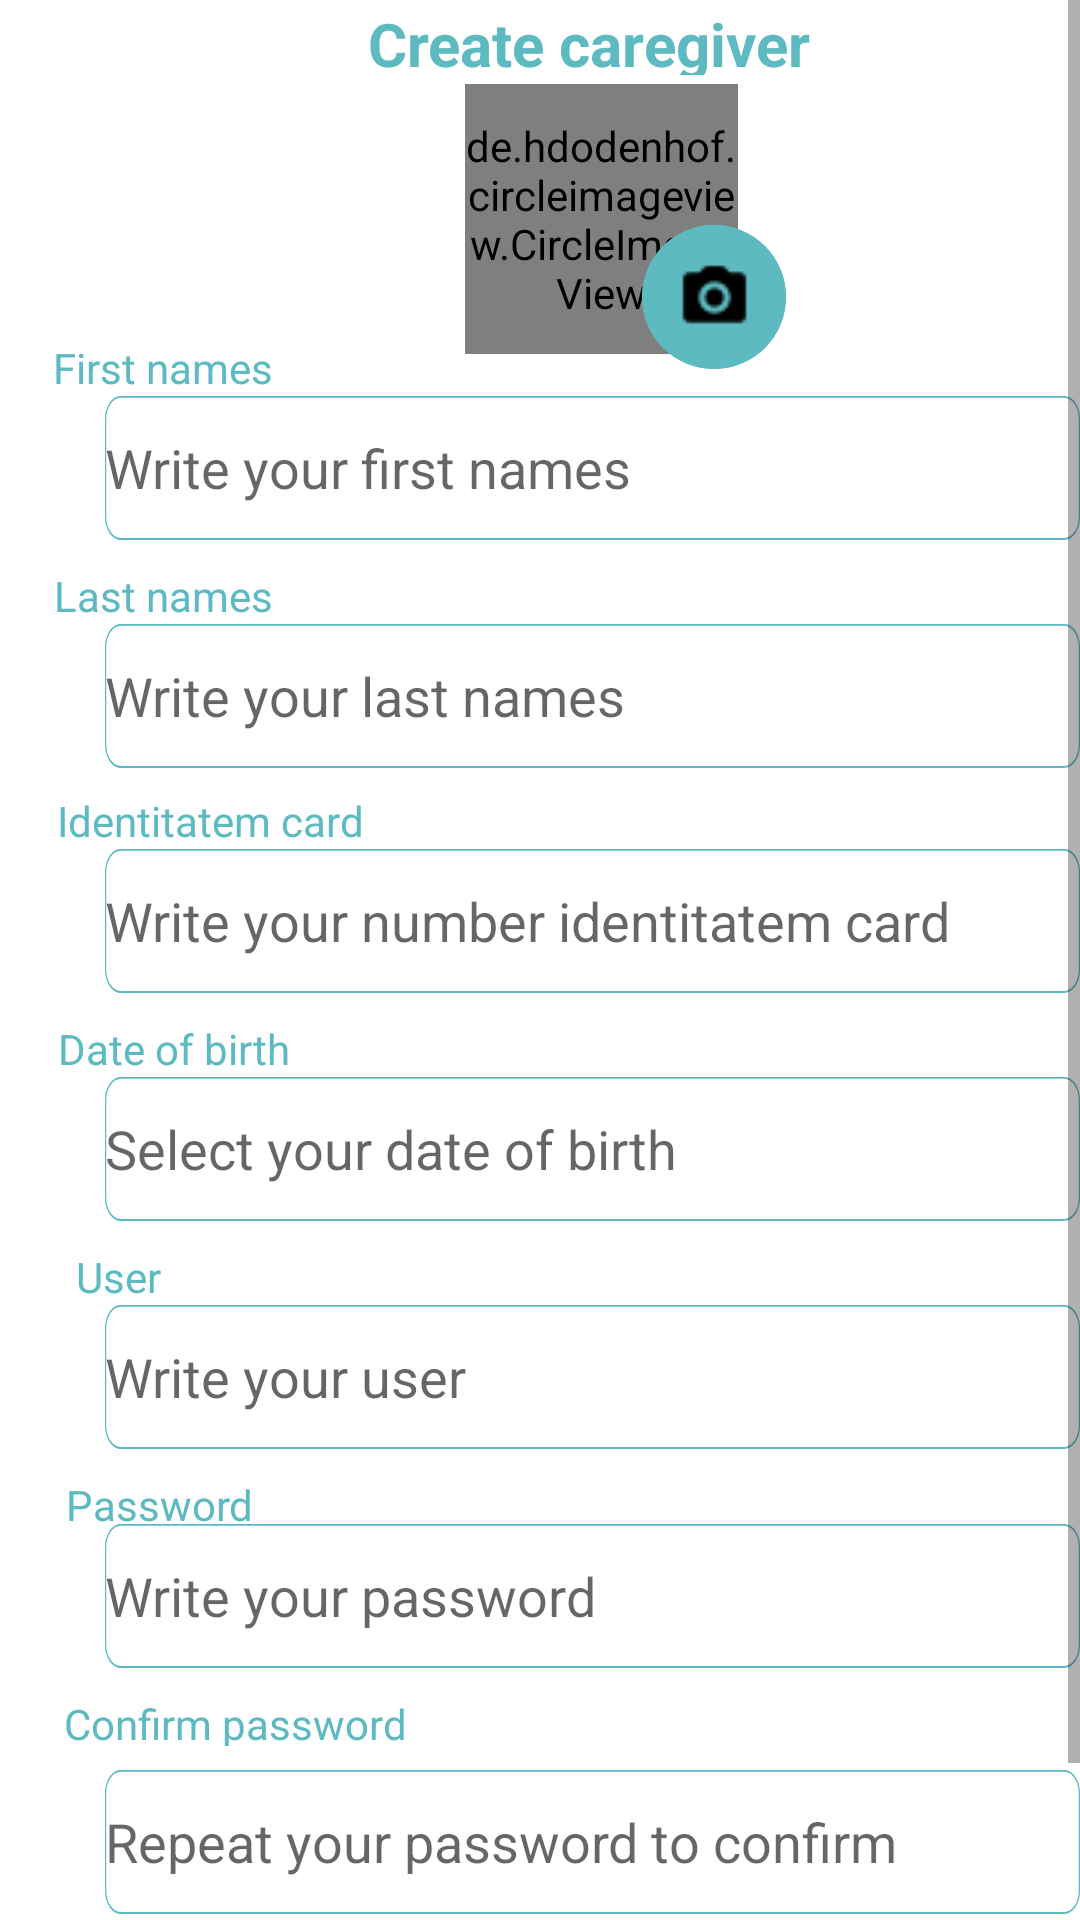

Named icons in this screenshot (1080x1920) and their centers, point (x, y):
cam negra: point (714, 297)
